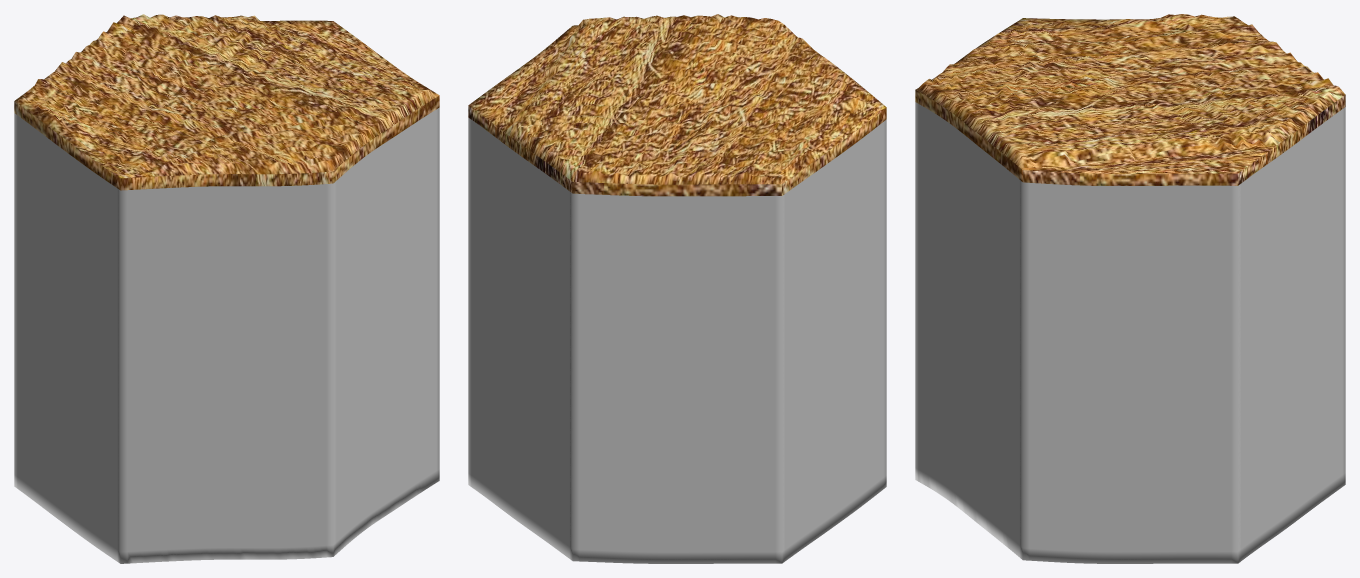
The model's file is Field.fbx.
3 renders of one model, left to right at view 1: azimuth 30°, elevation 25°; view 2: azimuth 150°, elevation 25°; view 3: azimuth 270°, elevation 25°, orthographic. The views are drawn at different scales.
Parts seen in each view (by area): view 1: Grain; view 2: Grain; view 3: Grain.
Boxes of the visible parts, <box> form: Grain: <box>14,14,439,563</box>; Grain: <box>468,14,886,563</box>; Grain: <box>915,14,1345,563</box>.
Size of the model in its own units: 173 by 211 by 200.
